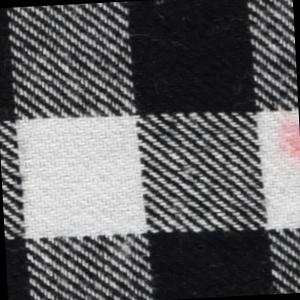Stain: (269, 107, 300, 170)
